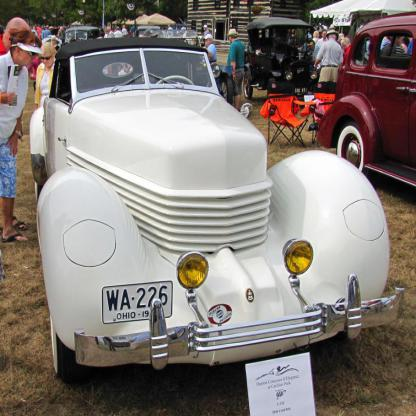Car: (36, 11, 416, 380)
